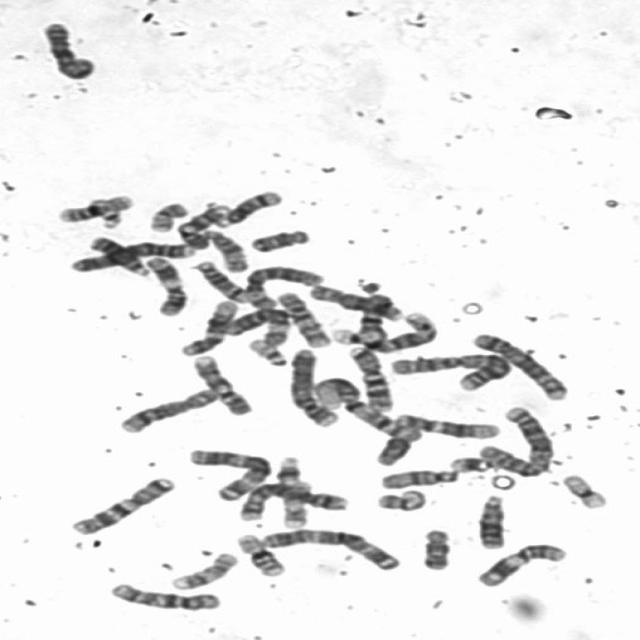A1: (306, 373, 423, 442), (353, 289, 441, 354)
A2: (474, 402, 559, 478), (386, 348, 516, 392)
A3: (253, 525, 403, 571), (182, 445, 274, 502)
B4: (282, 346, 342, 428), (66, 238, 200, 274)
B5: (466, 328, 573, 402), (234, 480, 353, 522)
C10: (269, 289, 334, 349), (105, 580, 224, 612)
C11: (470, 540, 571, 589), (141, 254, 192, 318)
C12: (175, 298, 239, 357), (388, 410, 500, 440)
C6: (240, 262, 328, 311), (215, 305, 292, 348)
C7: (64, 472, 178, 536), (342, 343, 394, 413)
C8: (113, 385, 220, 434), (305, 282, 406, 322)
C9: (188, 352, 255, 416), (172, 200, 232, 250)
D13: (82, 232, 151, 278), (471, 491, 512, 550)
D14: (209, 185, 286, 229), (190, 258, 251, 304)
D15: (197, 226, 252, 273), (374, 465, 464, 490)
E16: (53, 190, 137, 224), (232, 530, 288, 578)
E17: (164, 550, 239, 590), (280, 482, 315, 530)
E18: (244, 225, 314, 253), (416, 524, 456, 572)
F19: (556, 469, 610, 510), (326, 326, 387, 346)
F20: (144, 198, 190, 233), (372, 486, 429, 513)
G21: (270, 452, 306, 487), (444, 451, 496, 474)
G22: (243, 336, 290, 368), (87, 198, 125, 229)
X: (34, 17, 100, 81)
Y: (369, 422, 425, 467)
